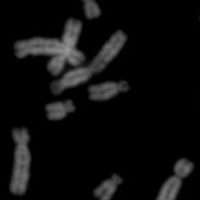chromosome: (53, 31, 127, 94), (46, 16, 81, 75), (151, 159, 195, 200), (13, 39, 84, 64), (8, 126, 31, 195), (89, 83, 130, 103), (92, 174, 123, 200), (46, 97, 74, 122), (82, 0, 105, 19), (191, 170, 200, 200), (199, 84, 200, 108)
